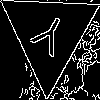Y: (24, 9, 71, 66)
